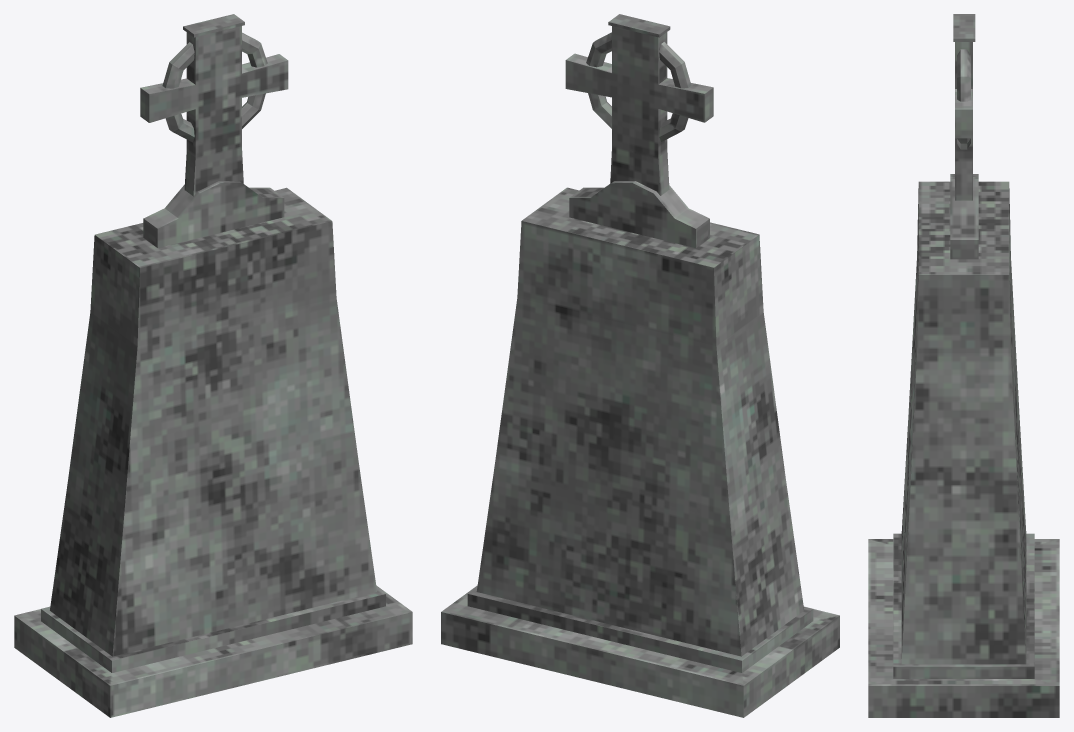
Rendered from tombstone2.glb.
The picture shows the model from 3 angles, left to right: view 1: azimuth 30°, elevation 25°; view 2: azimuth 150°, elevation 25°; view 3: azimuth 270°, elevation 25°; orthographic projection.
Visible parts, largest first — view 1: tombstone_2_geo; view 2: tombstone_2_geo; view 3: tombstone_2_geo.
Part boxes in pixels (x1=…): tombstone_2_geo: x1=14, y1=14, x2=412, y2=717; tombstone_2_geo: x1=441, y1=14, x2=839, y2=717; tombstone_2_geo: x1=868, y1=14, x2=1059, y2=717.
Size of the model in its own units: 0.7829 by 1.54 by 0.4308.
Materials: 1 (1 with a texture image).
